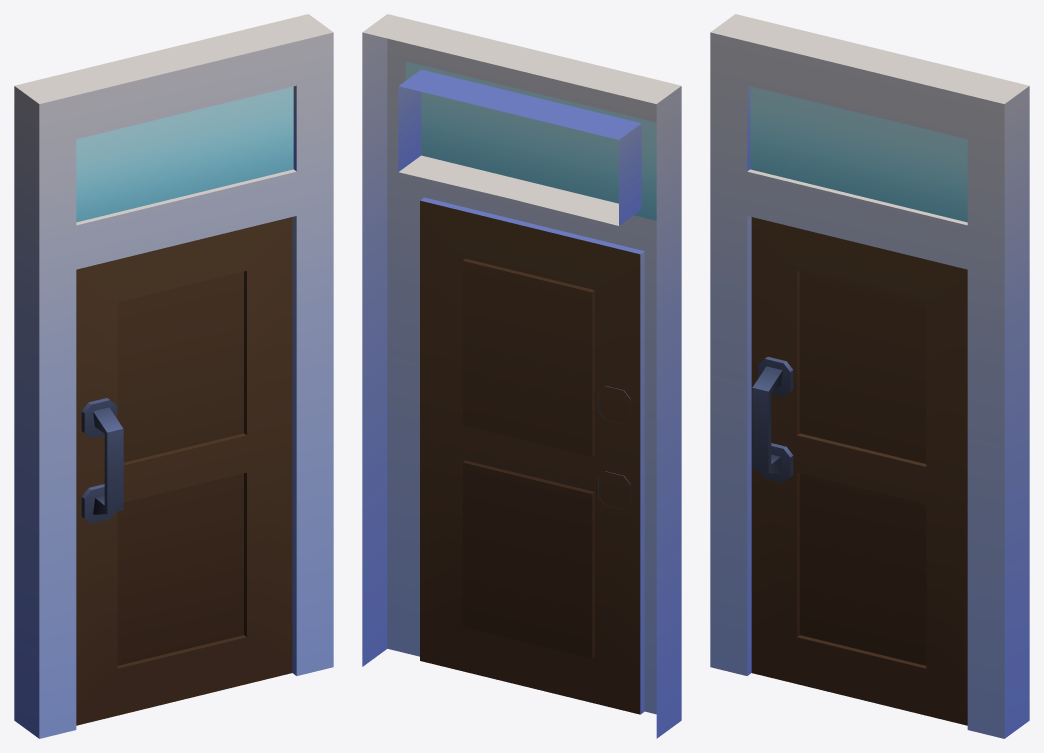
File: Door_01B.fbx
The picture shows the model from 3 angles, left to right: view 1: azimuth 30°, elevation 25°; view 2: azimuth 150°, elevation 25°; view 3: azimuth 330°, elevation 25°; orthographic projection.
Parts seen in each view (by area): view 1: Door_01B; view 2: Door_01B; view 3: Door_01B.
Boxes of the visible parts, x1,y1,x2,y2 form: Door_01B: (14,14,333,738); Door_01B: (362,14,681,738); Door_01B: (710,14,1029,738).
Bounding box in the file's own units: 142 × 293 × 32.49.
Materials: 3 (3 with a texture image).
